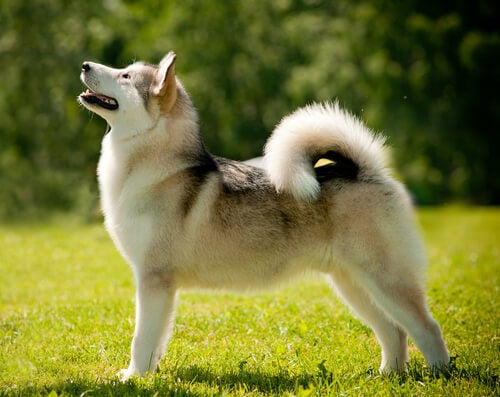husky: (64, 42, 456, 382)
